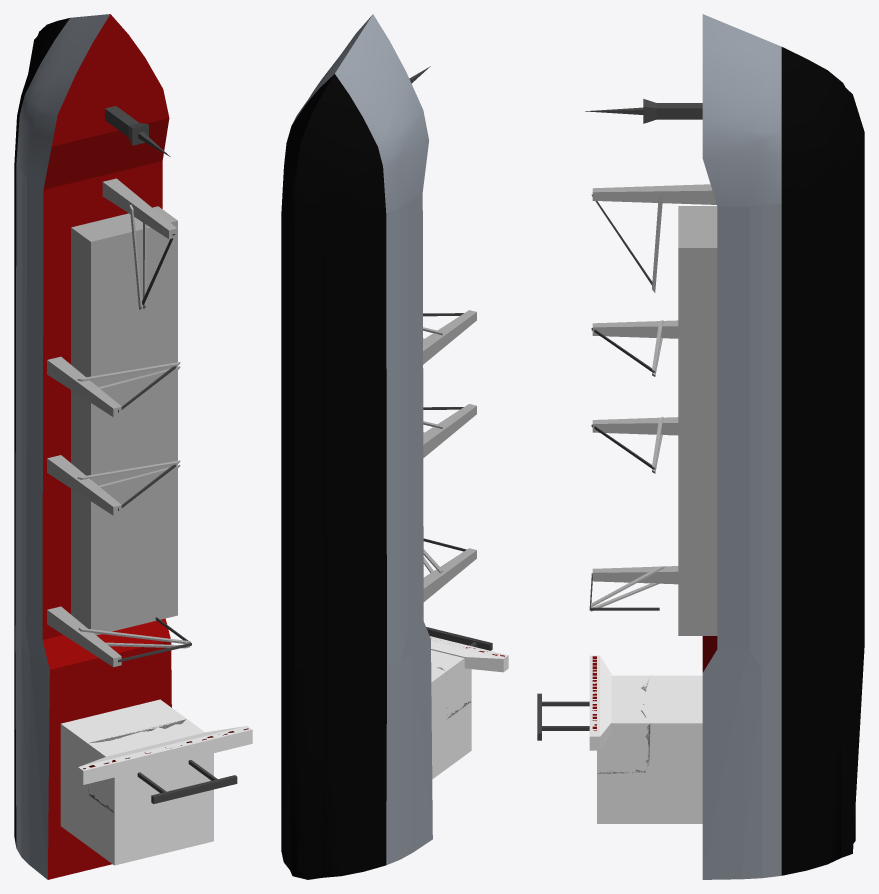
File: container_ship.glb
3 views of the same model, side by side, from view 1: azimuth 30°, elevation 25°; view 2: azimuth 150°, elevation 25°; view 3: azimuth 270°, elevation 25° (orthographic). The views are drawn at different scales.
Parts seen in each view (by area): view 1: db_norilsk_newLOD_LOD child0_boxes3_p14612_Geometry_0.001, db_norilsk_newLOD_LOD child0_super_p13784_Geometry_0.001, db_norilsk_newLOD_LOD child0_boxes_p13863_Geometry_0.001, db_norilsk_newLOD_LOD child0_deck1b_p13773_Geometry_0.001, db_norilsk_newLOD_LOD child0_hull1b_p13777_Geometry_0.001, db_norilsk_newLOD_LOD child0_boxes2_p14260_Geometry_0.001, db_norilsk_newLOD_LOD child0_deck1c_p13641_Geometry_0.001, db_norilsk_newLOD_LOD child0_deck1_p13767_Geometry_0.001, db_damaged_p16127_Geometry_0.001, db_norilsk_newLOD_LOD child0_hull1_p13764_Geometry_0.001, db_norilsk_newLOD_LOD child0_hull1c_p15437_Geometry_0.001, db_norilsk_newLOD_LOD child0_deck3a_p14518_Geometry_0.001 (+7 smaller); view 2: db_norilsk_newLOD_LOD child0_hull1c_p15534_Geometry_0.001, db_norilsk_newLOD_LOD child0_hull3a_p15738_Geometry_0.001, db_norilsk_newLOD_LOD child0_hull1b_p13777_Geometry_0.001, db_norilsk_newLOD_LOD child0_hull1c_p15437_Geometry_0.001, db_norilsk_newLOD_LOD child0_hull1_p13764_Geometry_0.001, db_norilsk_newLOD_LOD child0_super_p13784_Geometry_0.001, db_damaged_p16127_Geometry_0.001, db_norilsk_newLOD_LOD child0_crane1a_p13955_Geometry_0.001, db_norilsk_newLOD_LOD child0_crane1c_p14065_Geometry_0.001, db_norilsk_newLOD_LOD child0_crane1d_p14109_Geometry_0.001, db_norilsk_newLOD_LOD child0_cross_p14146_Geometry_0.001; view 3: db_norilsk_newLOD_LOD child0_hull1c_p15534_Geometry_0.001, db_norilsk_newLOD_LOD child0_hull1b_p13777_Geometry_0.001, db_norilsk_newLOD_LOD child0_hull3a_p15738_Geometry_0.001, db_norilsk_newLOD_LOD child0_hull1_p13764_Geometry_0.001, db_norilsk_newLOD_LOD child0_super_p13784_Geometry_0.001, db_norilsk_newLOD_LOD child0_boxes_p13863_Geometry_0.001, db_norilsk_newLOD_LOD child0_hull1c_p15437_Geometry_0.001, db_norilsk_newLOD_LOD child0_boxes3_p14612_Geometry_0.001, db_damaged_p16127_Geometry_0.001, db_norilsk_newLOD_LOD child0_crane1b_p14038_Geometry_0.001, db_norilsk_newLOD_LOD child0_crane1a_p13955_Geometry_0.001, db_norilsk_newLOD_LOD child0_crane1d_p14109_Geometry_0.001 (+3 smaller).
Boxes of the visible parts, left/top/right/bottom form: db_norilsk_newLOD_LOD child0_boxes3_p14612_Geometry_0.001: left=71, top=221, right=177, bottom=633; db_norilsk_newLOD_LOD child0_super_p13784_Geometry_0.001: left=60, top=699, right=252, bottom=865; db_norilsk_newLOD_LOD child0_boxes_p13863_Geometry_0.001: left=71, top=206, right=177, bottom=635; db_norilsk_newLOD_LOD child0_deck1b_p13773_Geometry_0.001: left=42, top=161, right=170, bottom=669; db_norilsk_newLOD_LOD child0_hull1b_p13777_Geometry_0.001: left=15, top=165, right=49, bottom=669; db_norilsk_newLOD_LOD child0_boxes2_p14260_Geometry_0.001: left=72, top=207, right=177, bottom=634; db_norilsk_newLOD_LOD child0_deck1c_p13641_Geometry_0.001: left=43, top=14, right=169, bottom=189; db_norilsk_newLOD_LOD child0_deck1_p13767_Geometry_0.001: left=48, top=641, right=171, bottom=879; db_damaged_p16127_Geometry_0.001: left=60, top=700, right=213, bottom=864; db_norilsk_newLOD_LOD child0_hull1_p13764_Geometry_0.001: left=15, top=639, right=49, bottom=879; db_norilsk_newLOD_LOD child0_hull1c_p15437_Geometry_0.001: left=16, top=14, right=110, bottom=189; db_norilsk_newLOD_LOD child0_deck3a_p14518_Geometry_0.001: left=55, top=15, right=168, bottom=145; db_norilsk_newLOD_LOD child0_hull1c_p15534_Geometry_0.001: left=281, top=74, right=386, bottom=877; db_norilsk_newLOD_LOD child0_hull3a_p15738_Geometry_0.001: left=289, top=100, right=362, bottom=879; db_norilsk_newLOD_LOD child0_hull1b_p13777_Geometry_0.001: left=386, top=192, right=430, bottom=665; db_norilsk_newLOD_LOD child0_hull1c_p15437_Geometry_0.001: left=292, top=14, right=429, bottom=213; db_norilsk_newLOD_LOD child0_hull1_p13764_Geometry_0.001: left=386, top=639, right=432, bottom=864; db_norilsk_newLOD_LOD child0_super_p13784_Geometry_0.001: left=430, top=636, right=508, bottom=778; db_damaged_p16127_Geometry_0.001: left=431, top=673, right=471, bottom=778; db_norilsk_newLOD_LOD child0_crane1a_p13955_Geometry_0.001: left=423, top=548, right=476, bottom=601; db_norilsk_newLOD_LOD child0_crane1c_p14065_Geometry_0.001: left=423, top=310, right=476, bottom=364; db_norilsk_newLOD_LOD child0_crane1d_p14109_Geometry_0.001: left=423, top=404, right=476, bottom=457; db_norilsk_newLOD_LOD child0_cross_p14146_Geometry_0.001: left=426, top=627, right=492, bottom=650; db_norilsk_newLOD_LOD child0_hull1c_p15534_Geometry_0.001: left=781, top=47, right=855, bottom=875; db_norilsk_newLOD_LOD child0_hull1b_p13777_Geometry_0.001: left=703, top=204, right=781, bottom=672; db_norilsk_newLOD_LOD child0_hull3a_p15738_Geometry_0.001: left=782, top=71, right=864, bottom=857; db_norilsk_newLOD_LOD child0_hull1_p13764_Geometry_0.001: left=702, top=670, right=781, bottom=879; db_norilsk_newLOD_LOD child0_super_p13784_Geometry_0.001: left=589, top=655, right=702, bottom=823; db_norilsk_newLOD_LOD child0_boxes_p13863_Geometry_0.001: left=678, top=206, right=717, bottom=635; db_norilsk_newLOD_LOD child0_hull1c_p15437_Geometry_0.001: left=702, top=14, right=781, bottom=206; db_norilsk_newLOD_LOD child0_boxes3_p14612_Geometry_0.001: left=678, top=248, right=717, bottom=635; db_damaged_p16127_Geometry_0.001: left=597, top=675, right=702, bottom=823; db_norilsk_newLOD_LOD child0_crane1b_p14038_Geometry_0.001: left=592, top=184, right=716, bottom=292; db_norilsk_newLOD_LOD child0_crane1a_p13955_Geometry_0.001: left=591, top=566, right=678, bottom=611; db_norilsk_newLOD_LOD child0_crane1d_p14109_Geometry_0.001: left=592, top=417, right=678, bottom=473.
Size of the model in its own units: 36.43 by 175 by 62.13.
